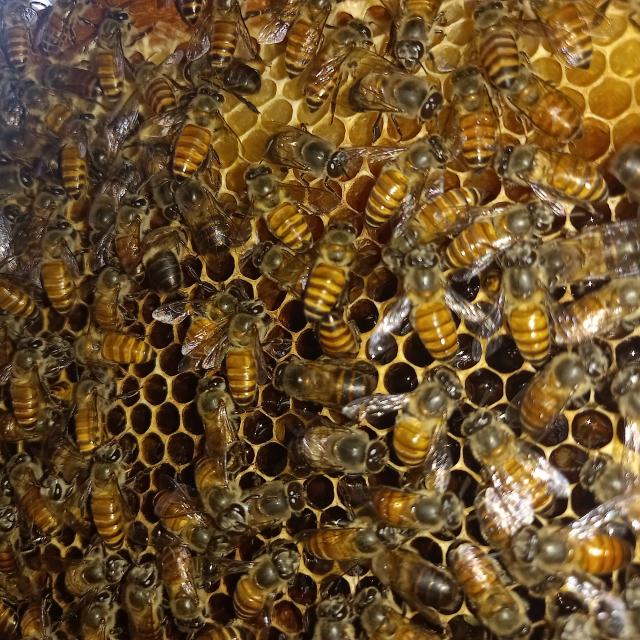honeybee: (465, 406, 569, 524), (392, 250, 490, 367), (487, 248, 559, 369), (525, 341, 610, 439), (448, 535, 532, 632), (354, 137, 438, 230), (497, 141, 609, 206), (370, 544, 468, 617), (505, 522, 640, 574), (494, 68, 590, 140), (159, 87, 230, 184), (388, 367, 454, 469), (163, 285, 250, 361), (443, 64, 506, 168), (248, 164, 318, 256), (296, 17, 368, 106), (539, 230, 640, 290), (448, 201, 533, 272), (68, 362, 130, 459), (386, 187, 479, 250), (172, 177, 242, 259), (180, 39, 272, 101), (154, 492, 232, 565), (32, 220, 89, 317), (4, 450, 64, 542), (183, 0, 259, 72), (222, 298, 271, 409), (19, 183, 78, 275), (577, 452, 640, 538), (273, 356, 380, 406), (304, 221, 358, 320), (84, 441, 133, 549), (348, 71, 440, 128), (355, 583, 447, 640), (555, 282, 640, 342), (534, 0, 603, 72), (15, 83, 100, 141), (199, 374, 249, 472), (294, 424, 386, 477), (468, 0, 523, 87), (261, 126, 346, 182), (228, 550, 298, 618), (378, 0, 443, 73), (188, 459, 246, 539), (368, 486, 464, 533), (94, 6, 141, 102), (3, 337, 49, 433), (308, 518, 406, 563), (253, 240, 324, 300), (274, 0, 330, 75), (43, 428, 88, 509), (232, 482, 309, 528), (57, 331, 158, 366), (137, 223, 190, 288), (90, 108, 142, 171), (161, 546, 203, 622), (128, 53, 183, 110), (126, 566, 168, 640), (90, 254, 134, 324), (56, 122, 98, 195), (310, 307, 364, 362), (612, 362, 640, 459), (0, 0, 39, 68), (37, 0, 85, 55), (55, 555, 125, 591), (45, 65, 109, 103), (76, 590, 122, 640), (308, 594, 355, 640), (0, 503, 25, 588), (0, 279, 42, 326), (18, 145, 54, 195), (611, 146, 640, 198), (21, 607, 61, 640), (0, 595, 23, 640), (193, 625, 257, 640), (171, 0, 204, 27)
